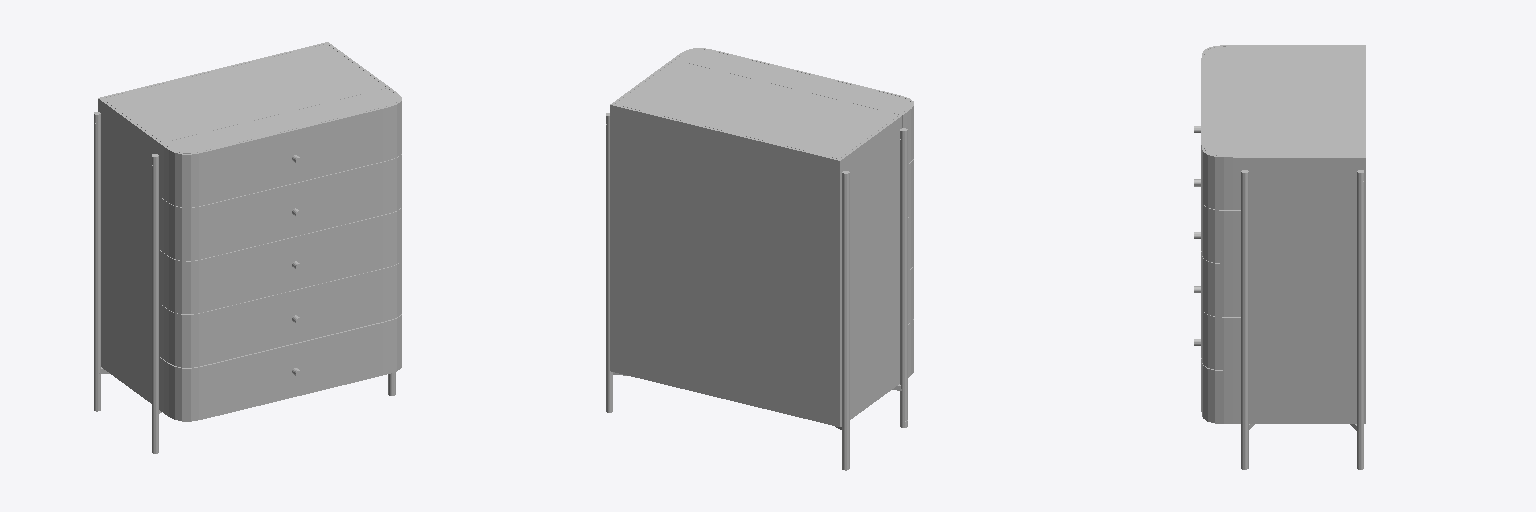
File: uploads_files_2580915_Com.obj
3 renders of one model, left to right at view 1: azimuth 30°, elevation 25°; view 2: azimuth 150°, elevation 25°; view 3: azimuth 270°, elevation 25°, orthographic.
Parts seen in each view (by area): view 1: comdino_Plane.003; view 2: comdino_Plane.003; view 3: comdino_Plane.003.
Part boxes in pixels (x1,y1,x2,y2): comdino_Plane.003: (94, 42, 401, 453); comdino_Plane.003: (606, 48, 913, 470); comdino_Plane.003: (1194, 45, 1365, 469).
Size of the model in its own units: 0.8639 by 1.05 by 0.5289.